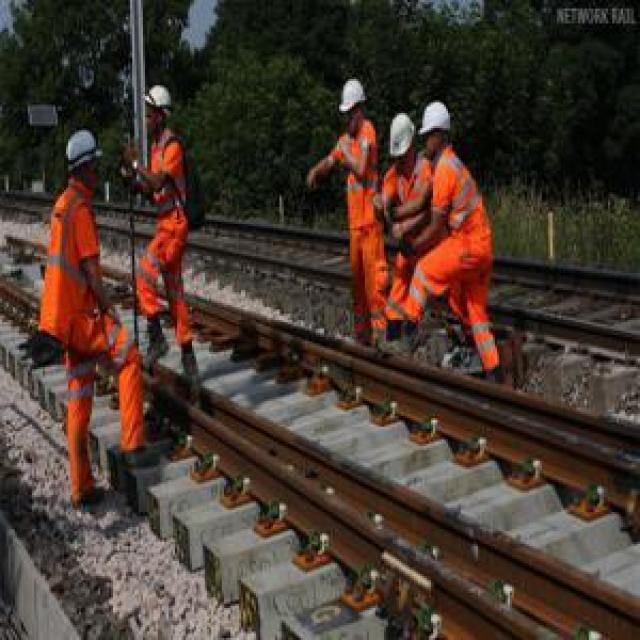rail: (1, 185, 640, 640)
